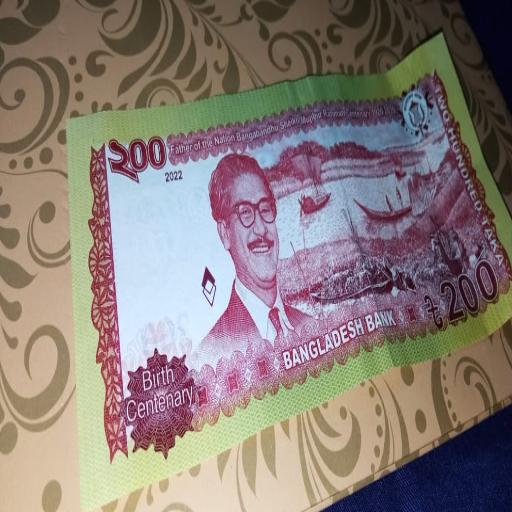200taka: (63, 34, 509, 503)
